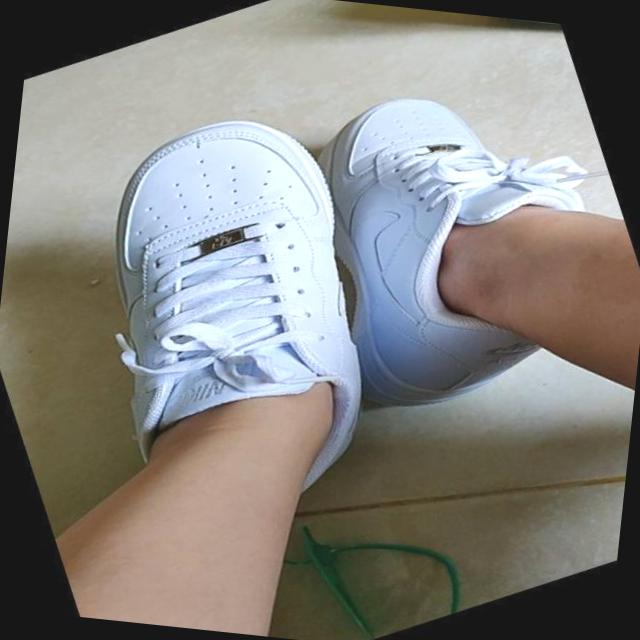nike_fake_airforce: (15, 64, 461, 564), (259, 22, 640, 443)
